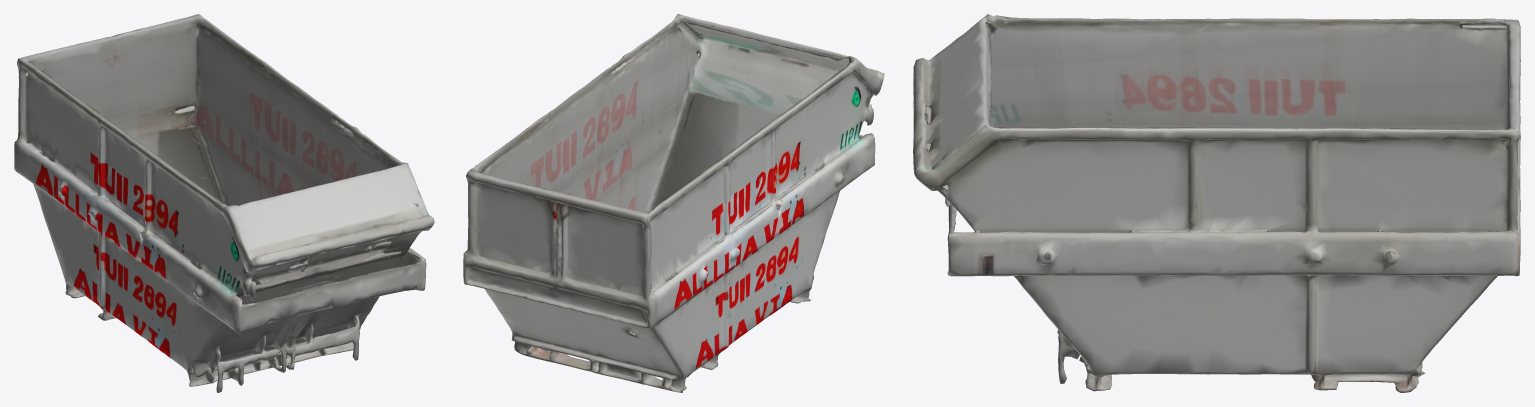
The model's file is skip-9m3.glb.
3 renders of one model, left to right at view 1: azimuth 30°, elevation 25°; view 2: azimuth 150°, elevation 25°; view 3: azimuth 270°, elevation 25°, orthographic. The views are drawn at different scales.
Size of the model in its own units: 0.9567 by 0.9906 by 2.01.
Materials: 1 (1 with a texture image).
